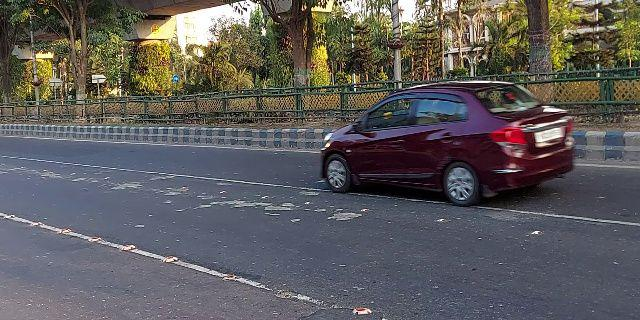Car: (317, 78, 579, 209)
